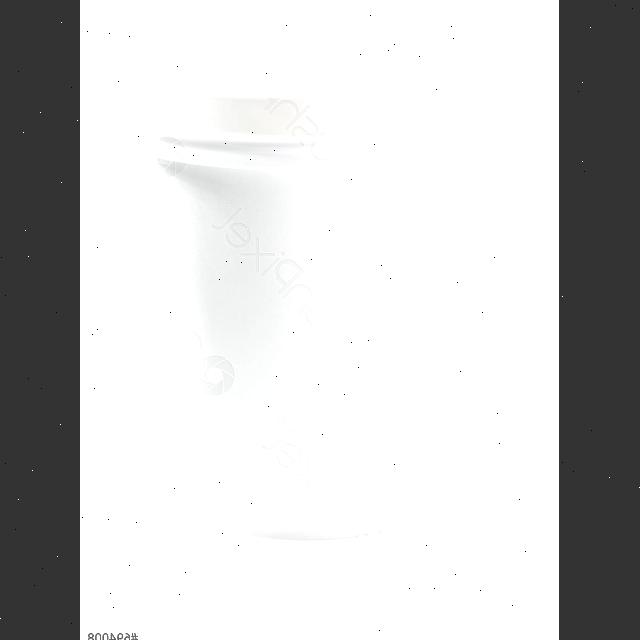trash: (148, 52, 482, 546)
